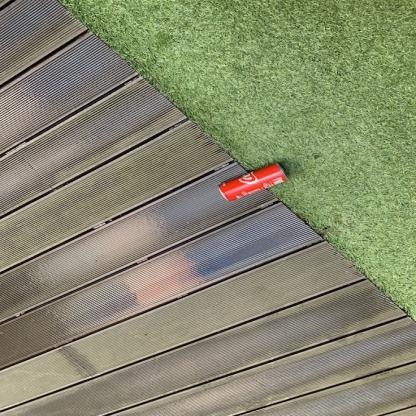trash: (219, 163, 285, 200)
